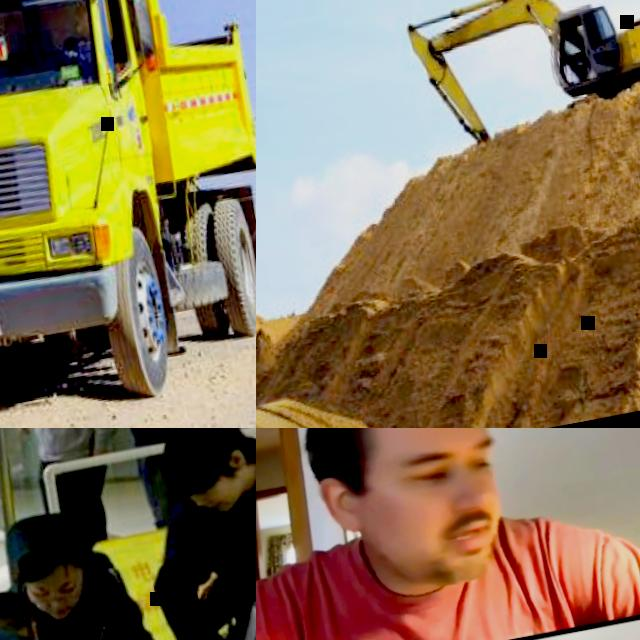NO-Hardhat: (153, 428, 238, 497), (8, 518, 92, 579), (290, 428, 487, 454), (0, 585, 36, 636)
NO-Mask: (374, 507, 510, 601), (205, 481, 250, 517), (38, 595, 84, 624)
NO-Safety Vest: (256, 506, 586, 640), (183, 431, 256, 629), (34, 572, 133, 640), (15, 428, 106, 463)
Person: (256, 428, 640, 640), (0, 493, 194, 640), (123, 428, 256, 640), (0, 428, 140, 560), (82, 428, 256, 534), (0, 561, 188, 640)
vehicle: (0, 0, 256, 428), (402, 0, 640, 154)
